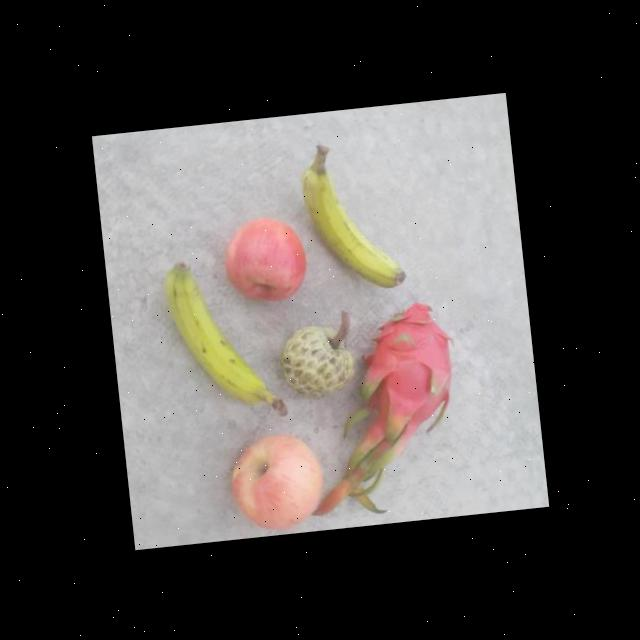Sakya fruit: (276, 305, 358, 402)
apple: (226, 426, 330, 534), (214, 208, 312, 310)
banana: (160, 239, 288, 426), (294, 134, 411, 296)
pitaya: (349, 292, 461, 438)
